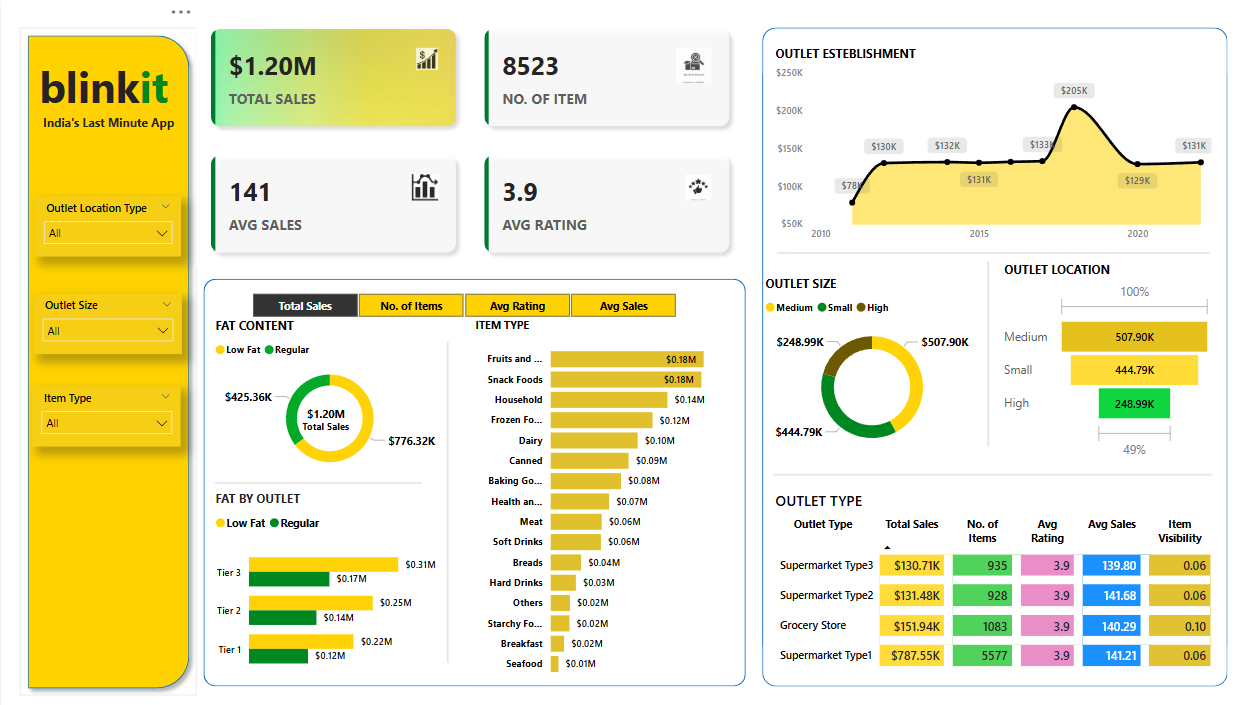

What the dashboard file says about the page in this screenshot:
{"tool":"powerbi","page":{"name":"Page 1","canvas":[1400,800],"ordinal":0},"visuals":[{"type":"shape","box":[20.7,30.5,200,753.7],"z":0},{"type":"textbox","box":[37.5,123.3,166.2,36.2],"z":1000},{"type":"textbox","box":[418.6,30,12.9,617.1],"z":2000},{"type":"cardVisual","fields":{"Data":["BlinkIT Grocery Data.Total Sales","BlinkIT Grocery Data.No. of Items","BlinkIT Grocery Data.Avg Sales","BlinkIT Grocery Data.Avg Rating"]},"box":[220.3,15.6,618.8,287.5],"z":3000},{"type":"shape","box":[228.1,314.1,610.9,459.4],"z":4000},{"type":"donutChart","title":"FAT CONTENT","fields":{"Y":["BlinkIT Grocery Data.Total Sales"],"Category":["BlinkIT Grocery Data.Item Fat Content"]},"box":[235.9,357.9,268.1,182.3],"z":5000},{"type":"slicer","fields":{"Values":["Parameter.Parameter"]},"box":[257.8,323.4,526.6,35.9],"z":6000},{"type":"cardVisual","fields":{"Data":["BlinkIT Grocery Data.Total Sales"]},"box":[315,441,101.9,63],"z":7000},{"type":"clusteredBarChart","title":"FAT BY OUTLET","fields":{"Y":["BlinkIT Grocery Data.Total Sales"],"Series":["BlinkIT Grocery Data.Item Fat Content"],"Category":["BlinkIT Grocery Data.Outlet Location Type"]},"box":[235.9,552.3,260.1,219.8],"z":8000},{"type":"shape","box":[241.3,538.9,233.2,9.4],"z":9000},{"type":"shape","box":[492.2,384.4,23.4,362.5],"z":10000},{"type":"barChart","title":"ITEM TYPE","fields":{"Y":["BlinkIT Grocery Data.Total Sales"],"Category":["BlinkIT Grocery Data.Item Type"]},"box":[529.7,357.8,306.2,414.1],"z":11000},{"type":"shape","box":[857.3,30.5,524.4,742.7],"z":12000},{"type":"lineChart","title":"OUTLET ESTEBLISHMENT","fields":{"Category":["BlinkIT Grocery Data.Outlet Establishment Year"],"Y":["BlinkIT Grocery Data.Total Sales"]},"box":[867.2,50,501.6,229.7],"z":13000},{"type":"shape","box":[875,279.7,487.5,9.4],"z":14000},{"type":"donutChart","title":"OUTLET SIZE","fields":{"Y":["BlinkIT Grocery Data.Total Sales"],"Category":["BlinkIT Grocery Data.Outlet Size"]},"box":[856.6,309.7,250.7,207.8],"z":15000},{"type":"funnel","title":"OUTLET LOCATION","fields":{"Y":["Sum(BlinkIT Grocery Data.Sales)"],"Category":["BlinkIT Grocery Data.Outlet Size"]},"box":[1124.7,294.9,244,227.9],"z":16000},{"type":"shape","box":[1107.2,294.9,10.7,209.1],"z":17000},{"type":"shape","box":[870,528.2,493.3,13.4],"z":18000},{"type":"pivotTable","title":"OUTLET TYPE","fields":{"Rows":["BlinkIT Grocery Data.Outlet Type"],"Values":["BlinkIT Grocery Data.Total Sales","BlinkIT Grocery Data.No. of Items","BlinkIT Grocery Data.Avg Rating","BlinkIT Grocery Data.Avg Sales","Avg(BlinkIT Grocery Data.Item Visibility)"]},"box":[867.3,552.3,504,211.8],"z":19000},{"type":"slicer","fields":{"Values":["BlinkIT Grocery Data.Outlet Location Type"]},"box":[37.5,221.2,164.9,68.4],"z":20000},{"type":"slicer","fields":{"Values":["BlinkIT Grocery Data.Outlet Size"]},"box":[36.2,331.1,167.6,68.4],"z":21000},{"type":"slicer","fields":{"Values":["BlinkIT Grocery Data.Item Type"]},"box":[34.9,435.7,167.6,68.4],"z":22000},{"type":"textbox","box":[37.5,59,179.6,73.7],"z":23000}]}

Visuals, with their boxes in screenshot pixels (x1, y1, x2, y2), scaled from the page's 1400x800 canvas onto the 1243x705 screenshot:
shape: (18,27,196,691)
textbox: (33,109,181,141)
textbox: (372,26,383,570)
cardVisual - BlinkIT Grocery Data.Total Sales x BlinkIT Grocery Data.No. of Items: (196,14,745,267)
shape: (203,277,745,682)
"FAT CONTENT" donutChart: (209,315,447,476)
slicer - Parameter.Parameter: (229,285,696,317)
cardVisual - BlinkIT Grocery Data.Total Sales: (280,389,370,444)
"FAT BY OUTLET" clusteredBarChart: (209,487,440,680)
shape: (214,475,421,483)
shape: (437,339,458,658)
"ITEM TYPE" barChart: (470,315,742,680)
shape: (761,27,1227,681)
"OUTLET ESTEBLISHMENT" lineChart: (770,44,1215,246)
shape: (777,246,1210,255)
"OUTLET SIZE" donutChart: (761,273,983,456)
"OUTLET LOCATION" funnel: (999,260,1215,461)
shape: (983,260,993,444)
shape: (772,465,1210,477)
"OUTLET TYPE" pivotTable: (770,487,1218,673)
slicer - BlinkIT Grocery Data.Outlet Location Type: (33,195,180,255)
slicer - BlinkIT Grocery Data.Outlet Size: (32,292,181,352)
slicer - BlinkIT Grocery Data.Item Type: (31,384,180,444)
textbox: (33,52,193,117)
